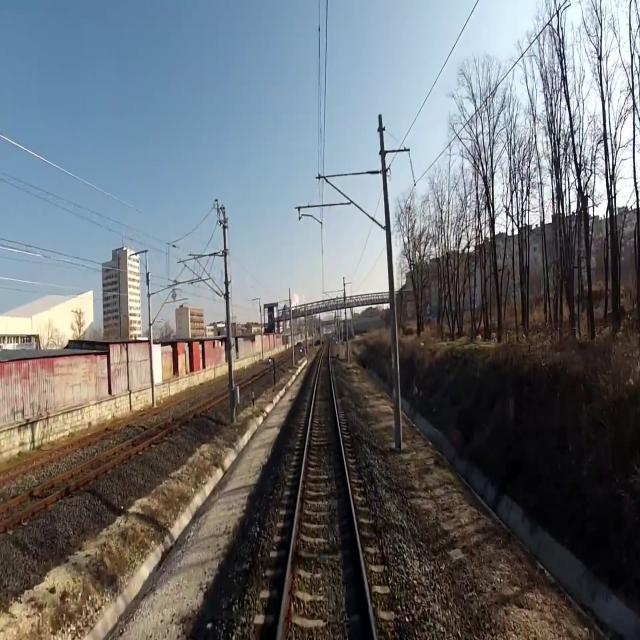rail-track: (287, 343, 365, 597), (0, 429, 159, 519)
